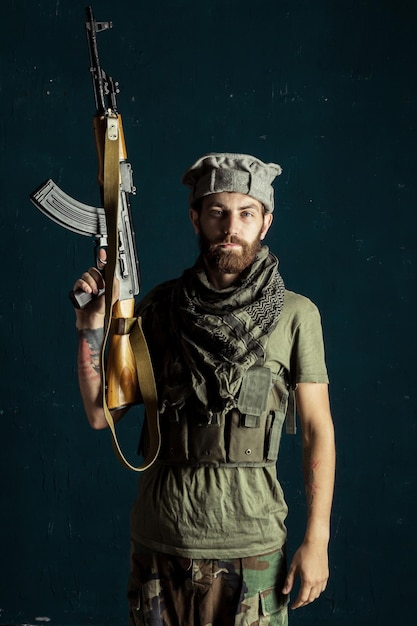gun: (33, 6, 140, 411)
